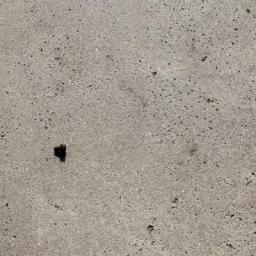FOD: (51, 139, 71, 166)
